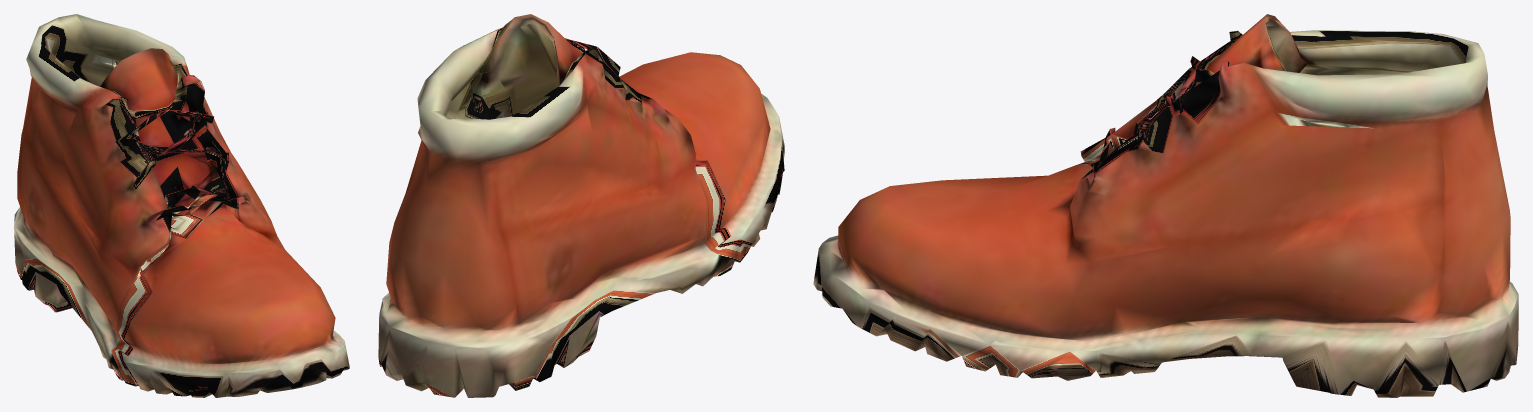
The model's file is gso_timberland_womens_waterproof_nellie_chukka_double.glb.
The picture shows the model from 3 angles, left to right: view 1: azimuth 30°, elevation 25°; view 2: azimuth 150°, elevation 25°; view 3: azimuth 270°, elevation 25°; orthographic projection. The views are drawn at different scales.
Parts seen in each view (by area): view 1: z-up-to-y-up; view 2: z-up-to-y-up; view 3: z-up-to-y-up.
Boxes of the visible parts, x1,y1,x2,y2 form: z-up-to-y-up: [14, 14, 349, 397]; z-up-to-y-up: [378, 14, 784, 397]; z-up-to-y-up: [813, 14, 1518, 397].
Size of the model in its own units: 0.1043 by 0.1494 by 0.2787.
Materials: 1 (1 with a texture image).
